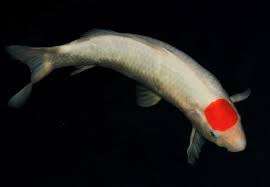sun: (5, 27, 250, 165)
